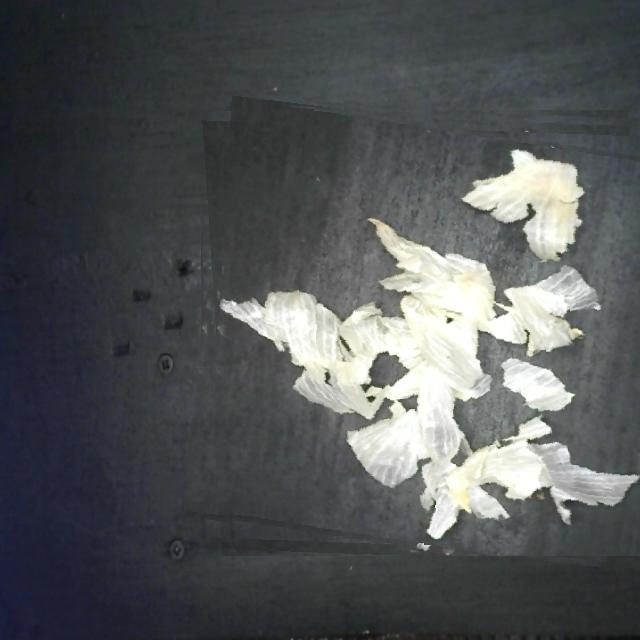biodegradable: (192, 102, 640, 556)
